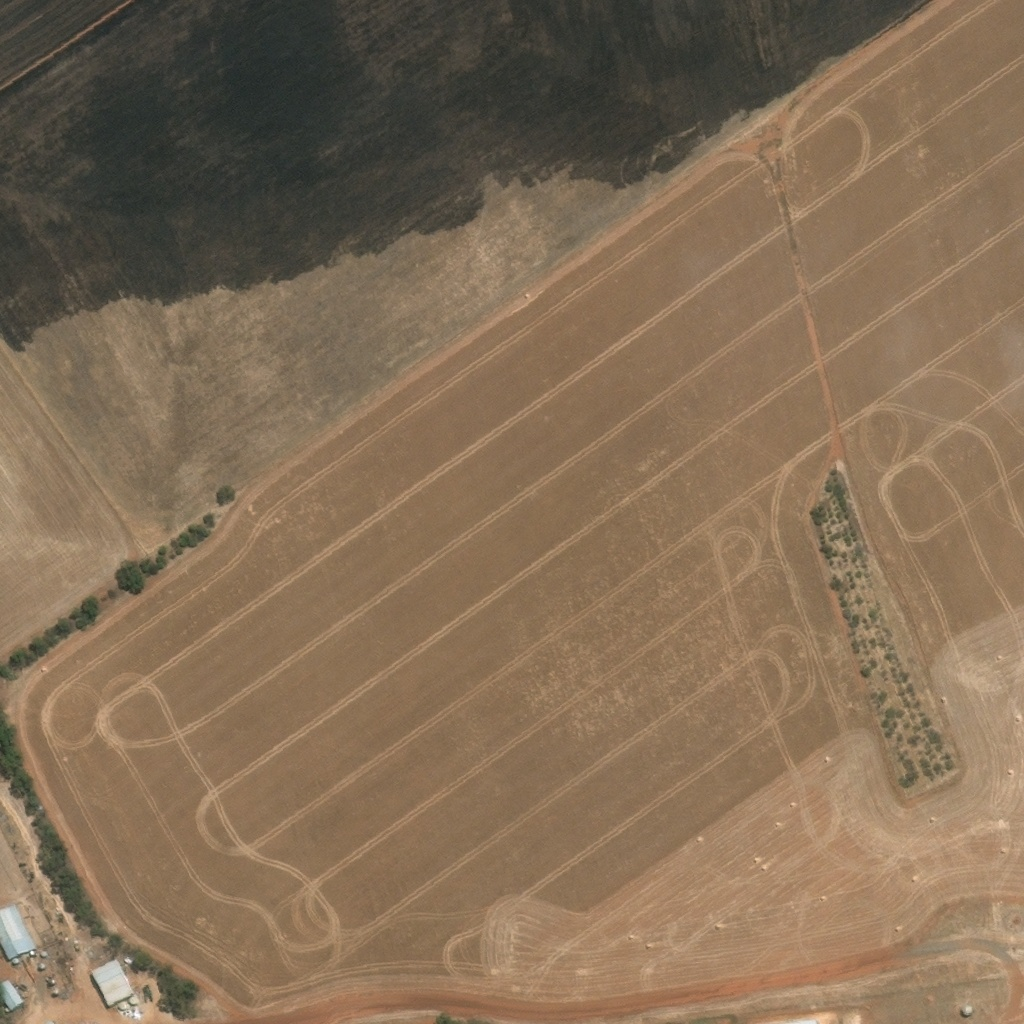0 no-damage: (0, 901, 36, 960), (91, 958, 134, 1004), (0, 977, 24, 1010), (108, 992, 134, 1009), (128, 997, 137, 1006), (117, 1003, 127, 1011), (12, 955, 20, 964), (47, 976, 56, 983), (53, 985, 59, 993), (39, 950, 46, 956), (38, 961, 45, 967)
4 un-classified: (25, 953, 31, 959), (27, 959, 32, 964)
